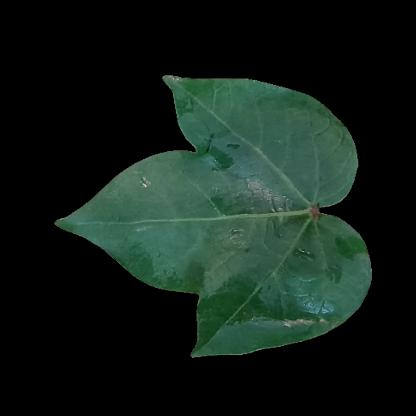healthy: (126, 170, 325, 265), (195, 90, 299, 170), (206, 267, 299, 343), (301, 230, 357, 322), (291, 116, 348, 165)
